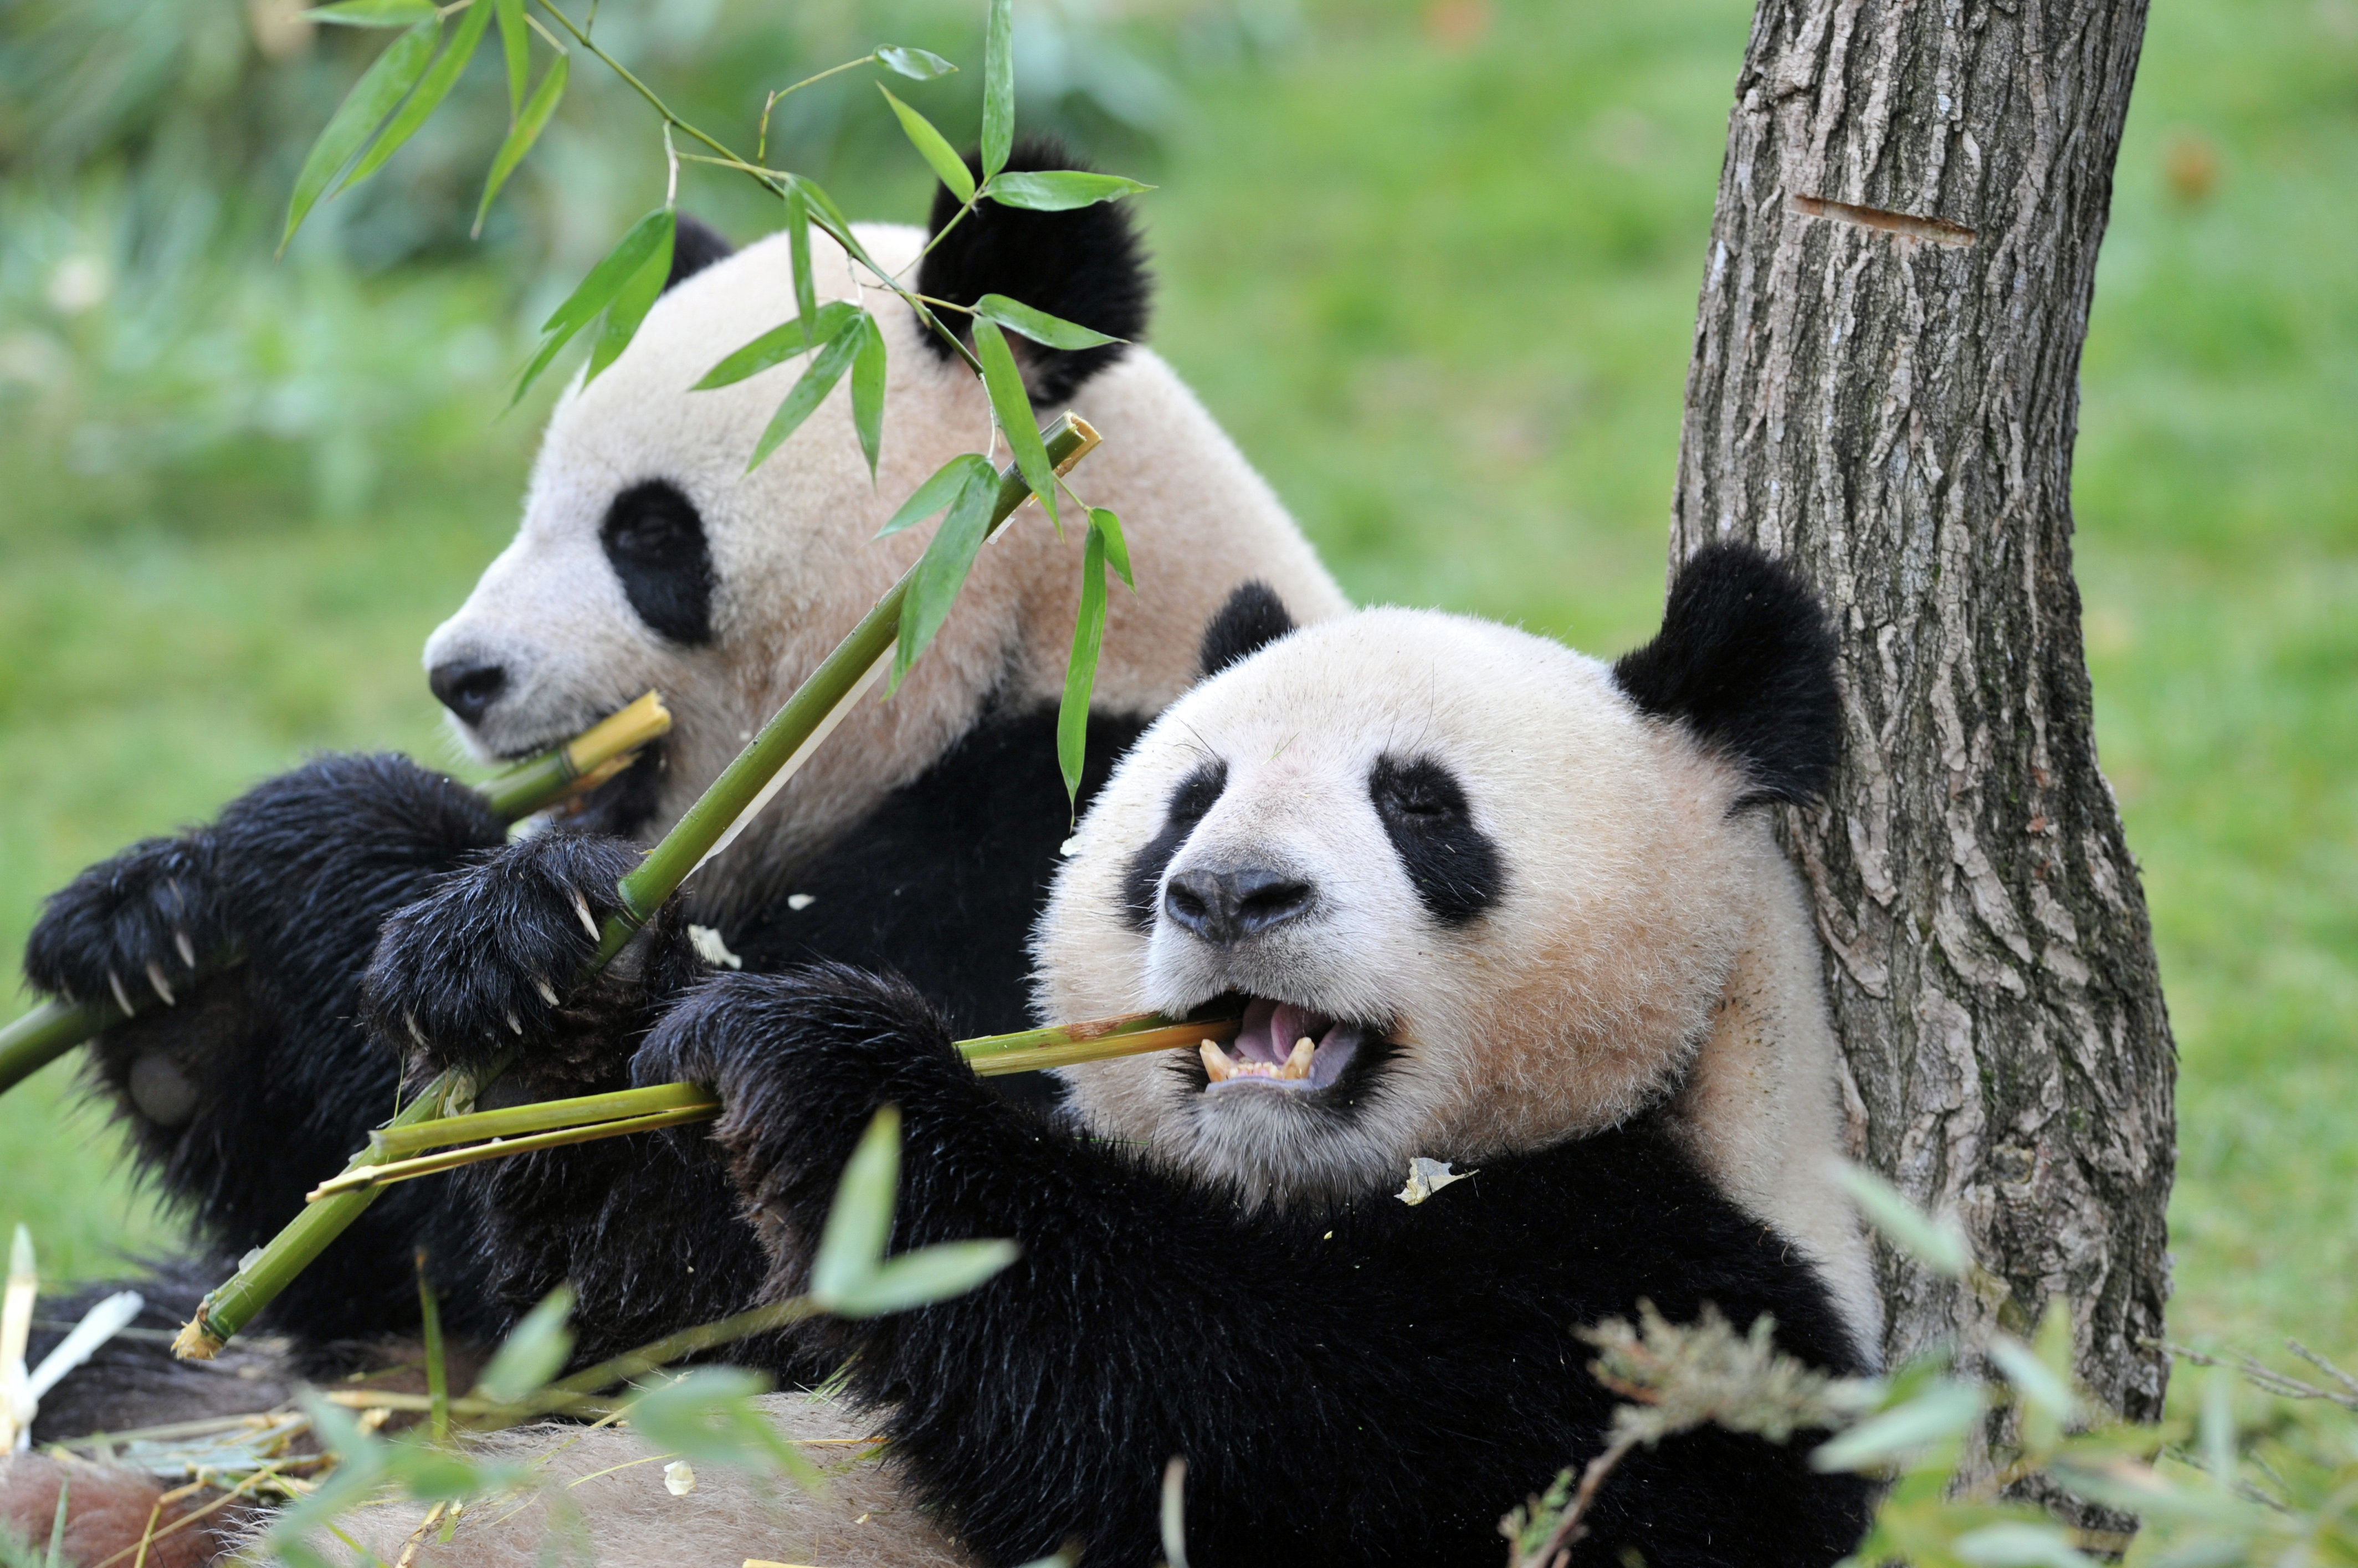panda: (171, 159, 1228, 1353), (789, 555, 1940, 1556)
